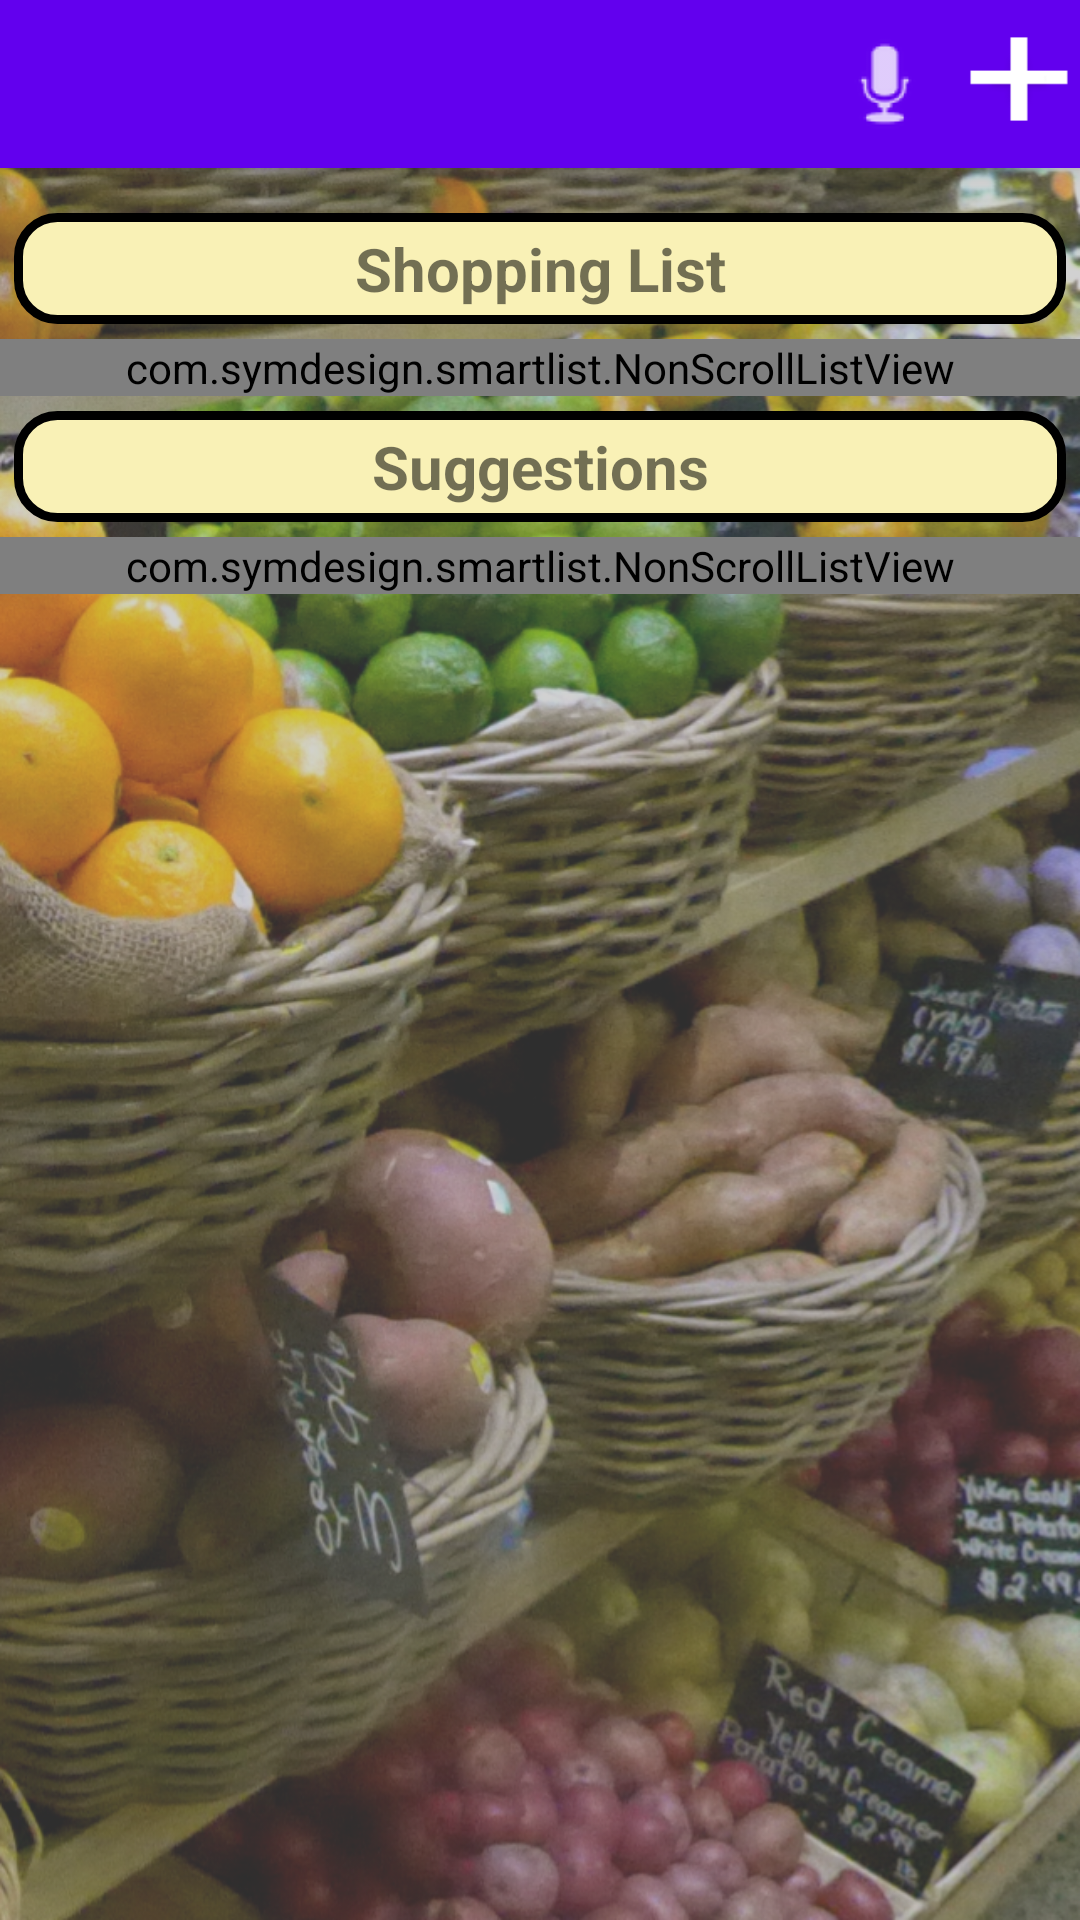

Point at icon controls on the screen. Image size 1080px x 1920px, points as [x,y].
plus: [1019,79]
speak now: [885,84]
